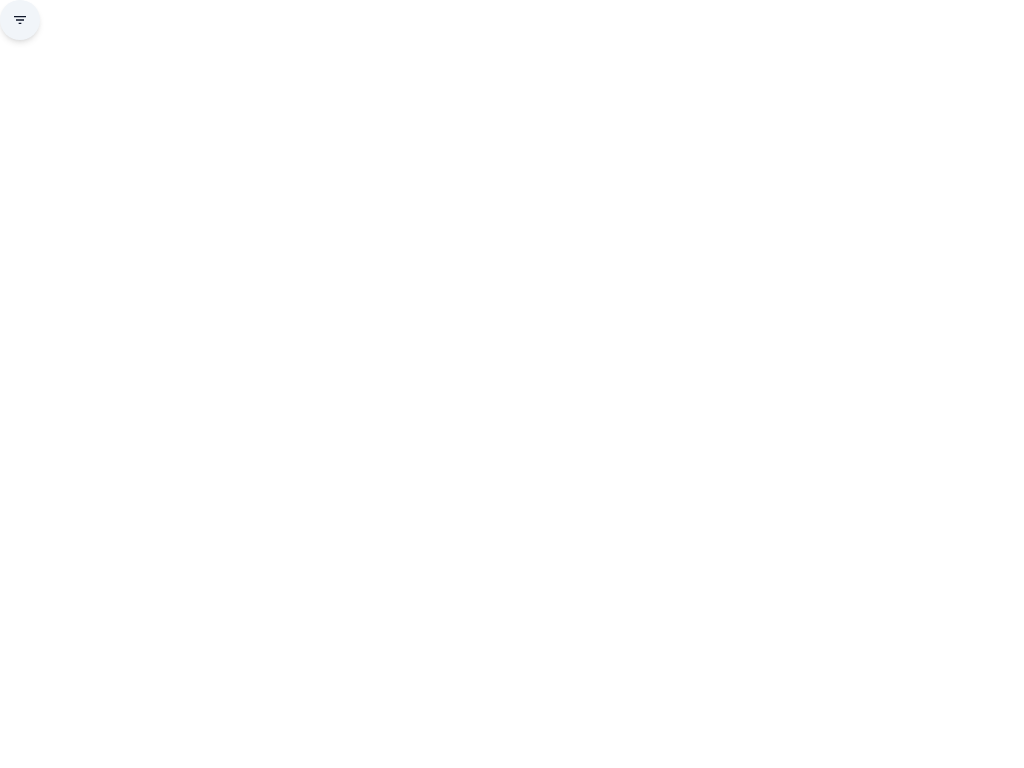
Test: FilterPopup › opens the desktop filter modal
Click the button titled "Filtrează markeri".
click(20, 20)  # box [0, 0, 40, 40]
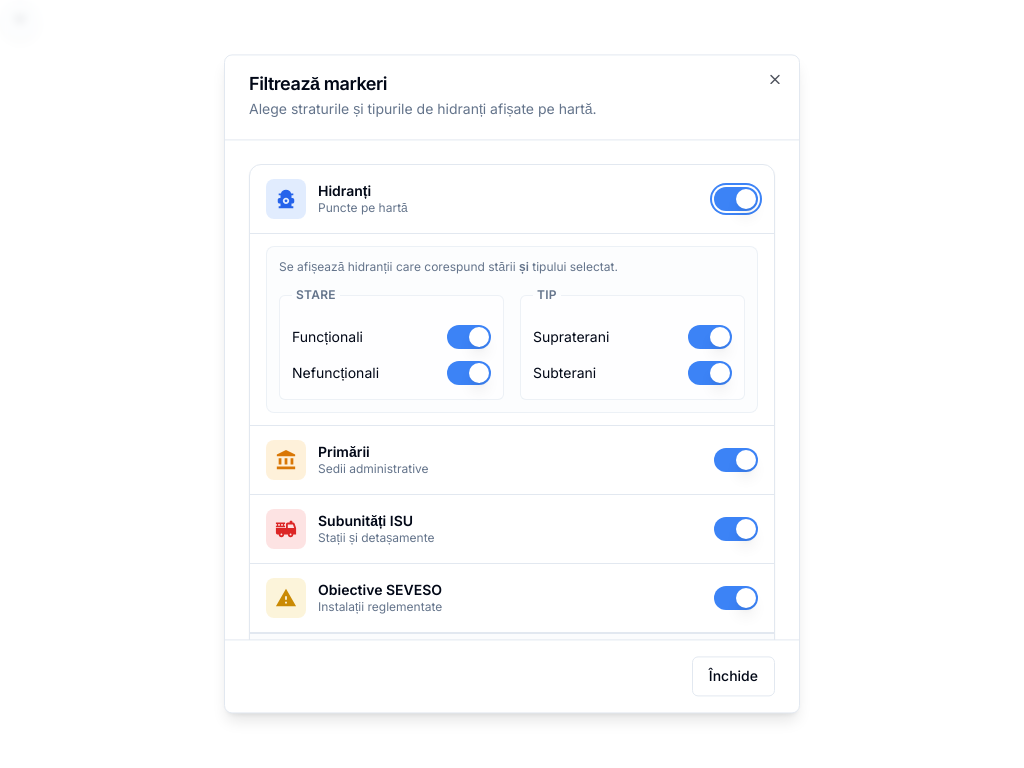
Expected: the dialog is shown, [224, 54, 800, 714]
Expected: the text "Hidranți" is shown, [318, 183, 371, 200]
Expected: the text "Primării" is shown, [318, 444, 370, 461]
